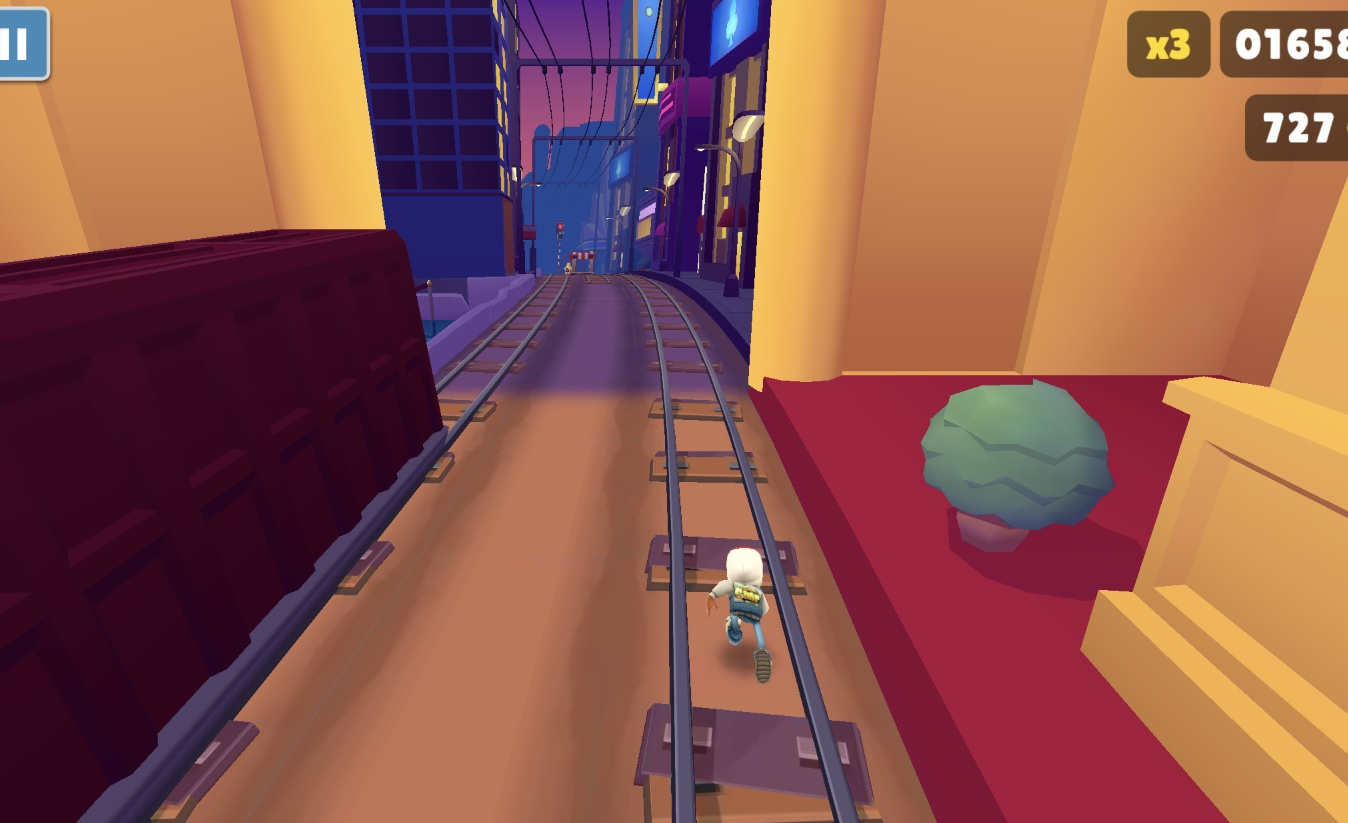ground_barrier: (573, 250, 596, 273)
train: (0, 227, 445, 823)
